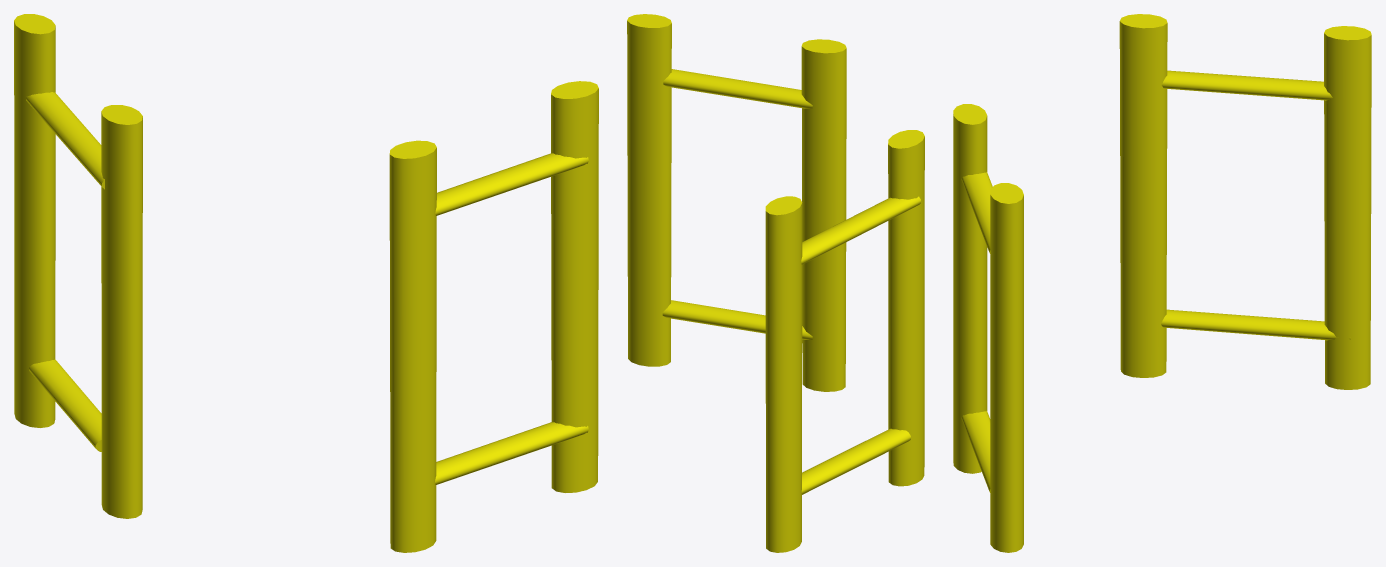
Rendered from Rail_Support_LeftTurn_01.fbx.
The picture shows the model from 3 angles, left to right: view 1: azimuth 30°, elevation 25°; view 2: azimuth 150°, elevation 25°; view 3: azimuth 270°, elevation 25°; orthographic projection. The views are drawn at different scales.
Visible parts, largest first — view 1: LeftTurn_Support; view 2: LeftTurn_Support; view 3: LeftTurn_Support.
Boxes of the visible parts, x1,y1,x2,y2 form: LeftTurn_Support: [14, 14, 598, 552]; LeftTurn_Support: [627, 14, 924, 552]; LeftTurn_Support: [953, 14, 1371, 552].
Bounding box in the file's own units: 2.23 × 2.07 × 2.18.
